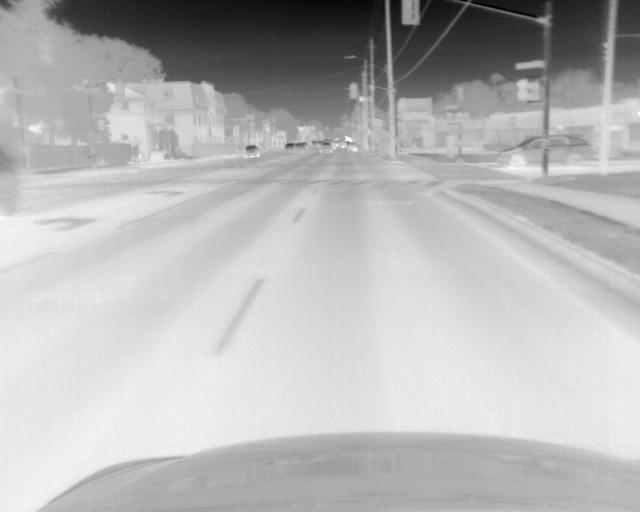car: (498, 135, 597, 167), (244, 145, 261, 158), (319, 141, 332, 154), (296, 141, 308, 153), (284, 142, 295, 155), (346, 141, 358, 152), (333, 140, 341, 150)
